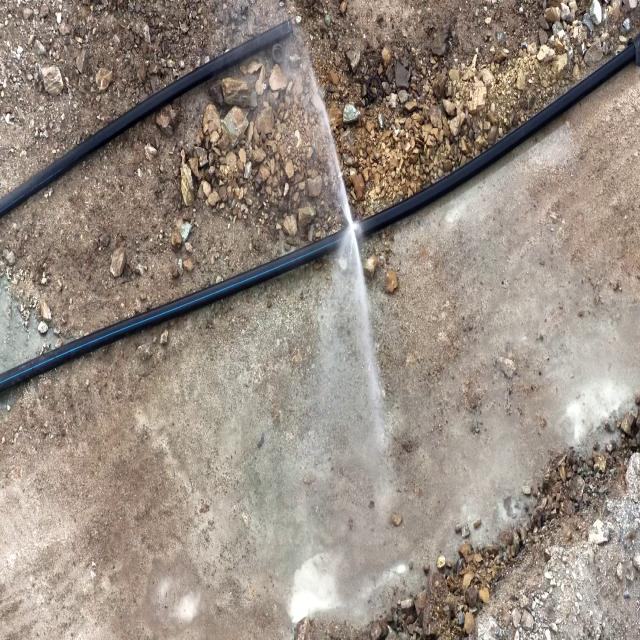leak: (295, 59, 384, 418)
